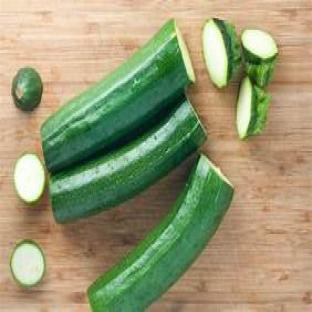Zucchini: (41, 20, 194, 172), (88, 155, 233, 311), (50, 98, 205, 222), (203, 19, 241, 87), (242, 29, 277, 87), (237, 77, 269, 139), (10, 239, 45, 287), (14, 153, 45, 204), (12, 67, 43, 111)
